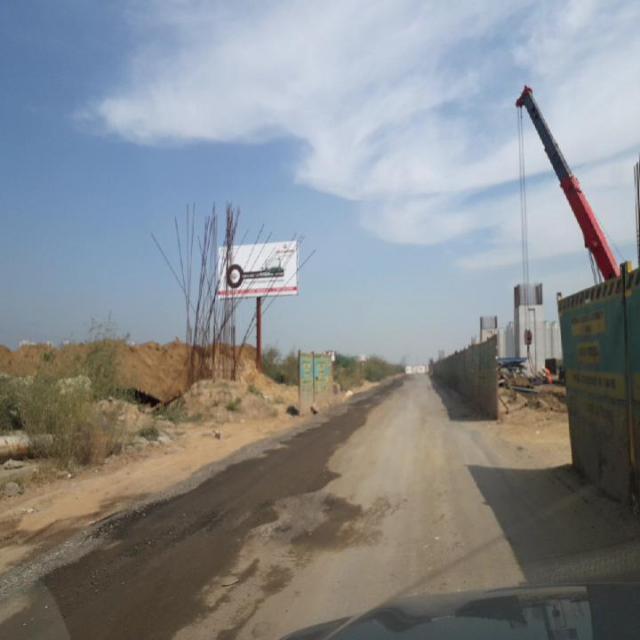Surface Erosion: (25, 373, 467, 640)
